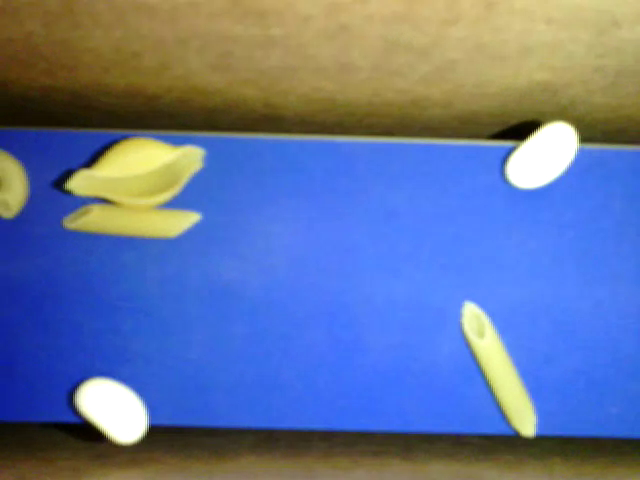elbow: (1, 149, 31, 219)
penne: (459, 299, 538, 437), (61, 202, 202, 239)
shell: (64, 134, 204, 209)
